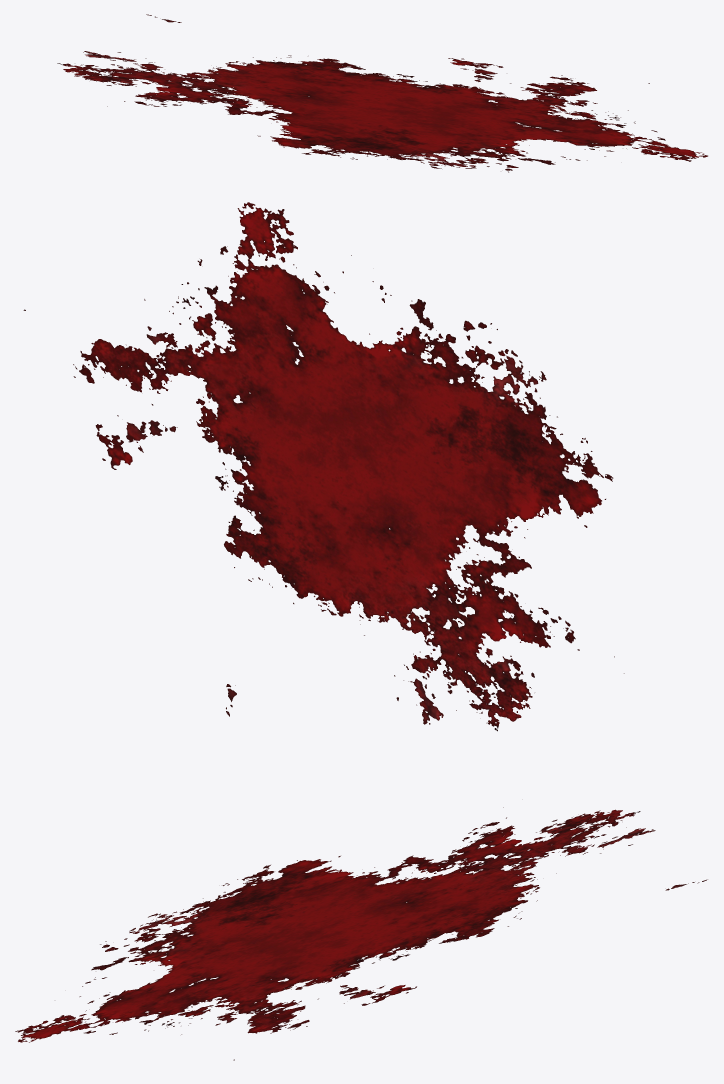
File: bloodMorph1.fbx
3 renders of one model, top to bottom at view 1: azimuth 30°, elevation 25°; view 2: azimuth 150°, elevation 25°; view 3: azimuth 270°, elevation 25°, orthographic. The views are drawn at different scales.
Visible parts, largest first — view 1: BloodMesh_15983.Shape; view 2: BloodMesh_15983.Shape; view 3: BloodMesh_15983.Shape.
Part boxes in pixels (x1=…): BloodMesh_15983.Shape: x1=57, y1=14, x2=707, y2=172; BloodMesh_15983.Shape: x1=23, y1=202, x2=624, y2=731; BloodMesh_15983.Shape: x1=15, y1=807, x2=707, y2=1060.
Size of the model in its own units: 192 by 0.0976 by 192.
